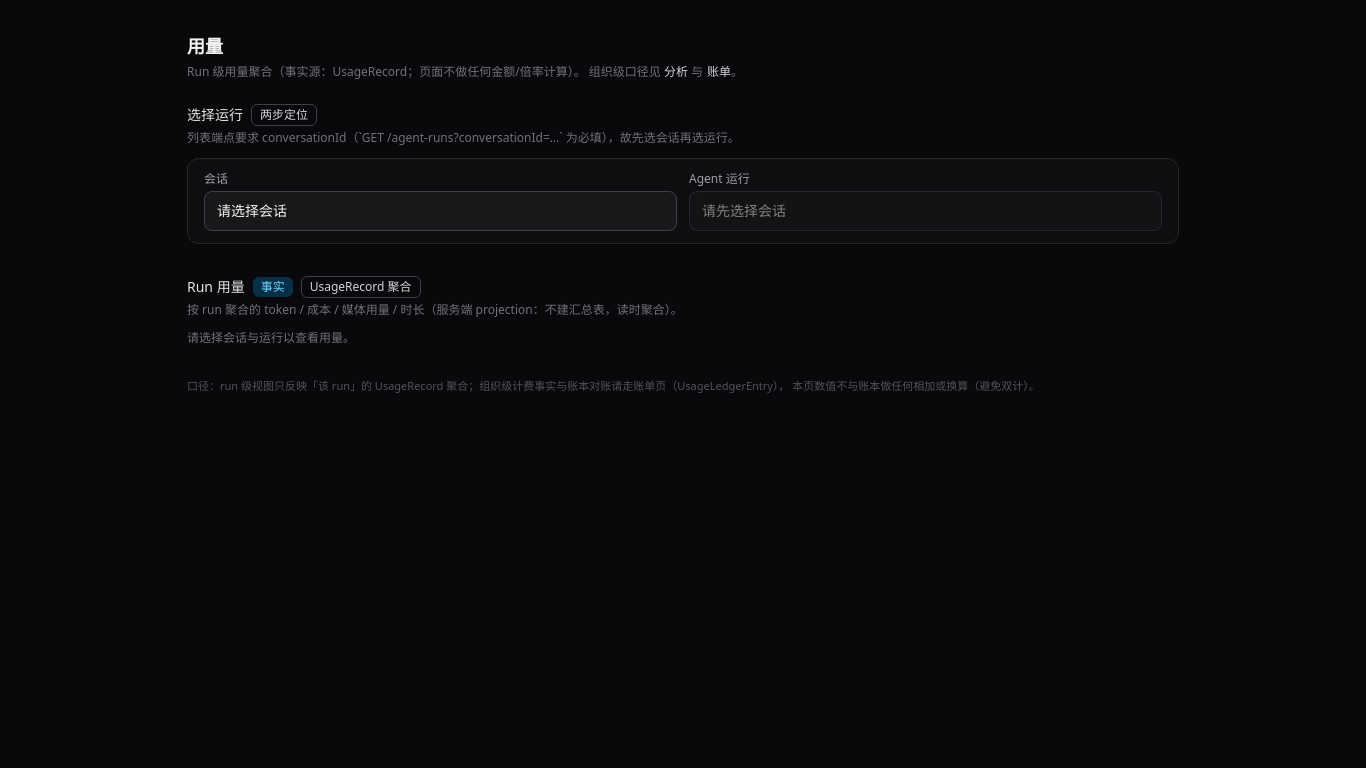
Usage 页面 · 用量呈现（token / 成本 / 媒体 / 时长） › byKind 明细逐行呈现（类型 / 次数 / token / 成本），数字与行内对应
Expected: the heading "用量" is shown, [187, 34, 223, 58]
Select "生图实验 · 2026-09-29 11:20" in the dropdown labelled "会话" at (440, 211), box [204, 191, 677, 231]
(page scrolled)
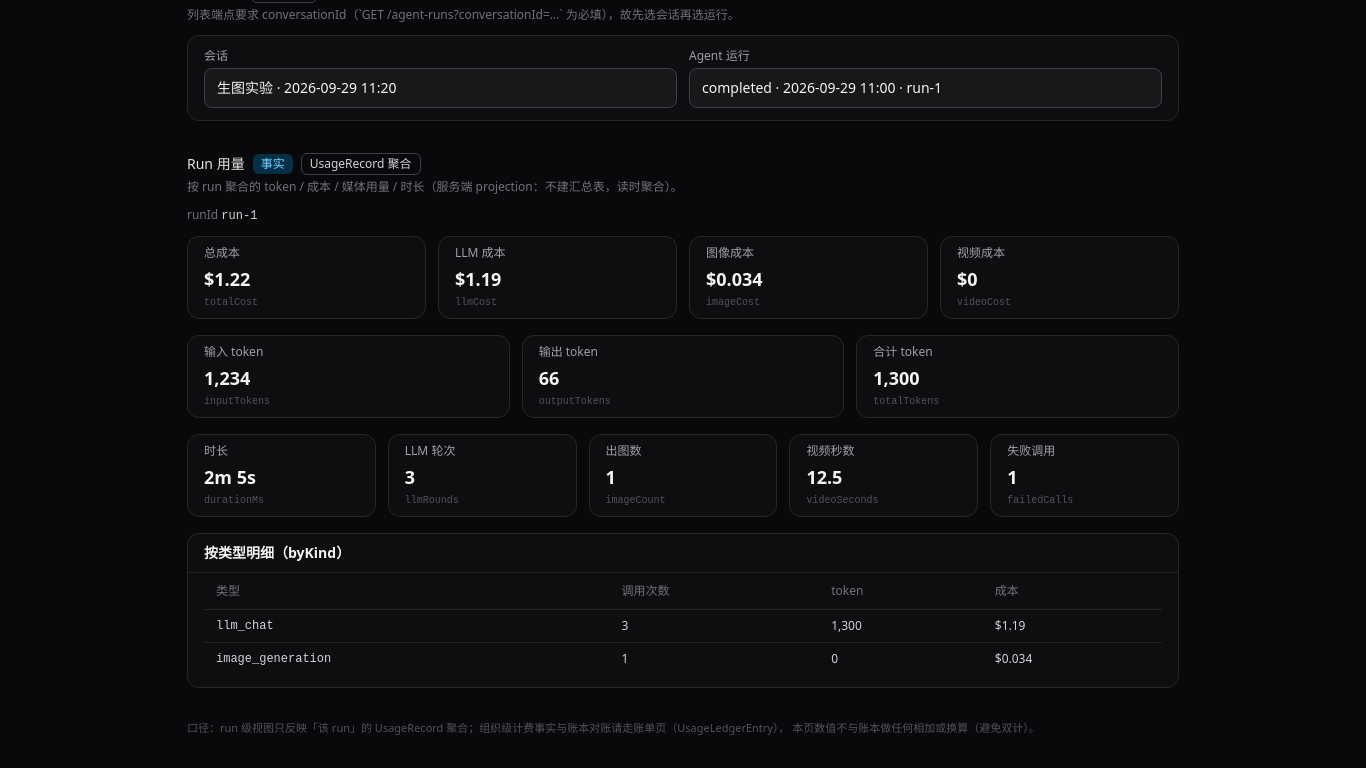
Now the dropdown labelled "Agent 运行" is enabled, box [689, 68, 1162, 108]
Now the text "llm_chat" is shown, box [204, 609, 609, 642]
Now the text "3" is shown, box [609, 609, 819, 642]
